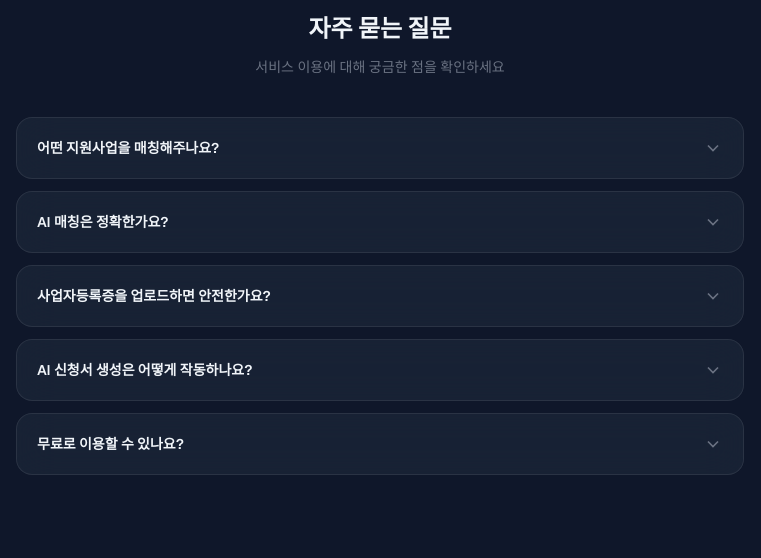
Scenario: FAQ component › interaction › opening an answer › clicking the third question reveals its answer
What coordinates should you click on to do the following:
click the button "사업자등록증을 업로드하면 안전한가요?"
I would click on:
 (154, 296)
Its box is [17,266,743,326].
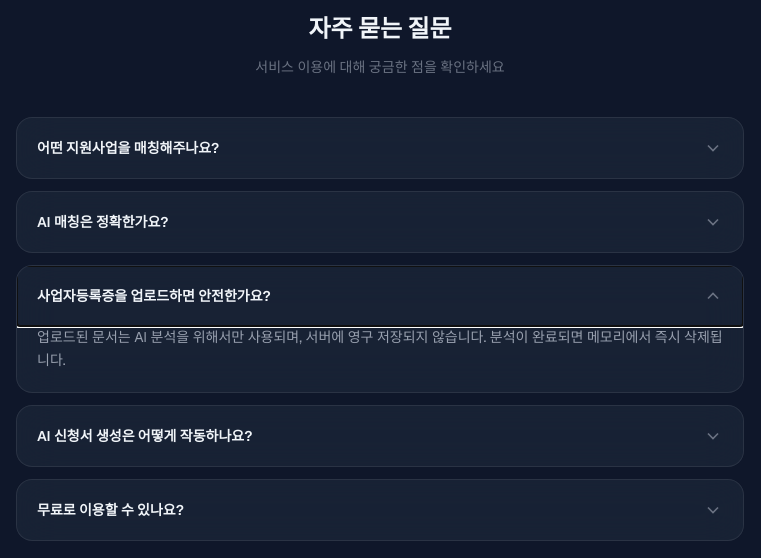
Now the text "서버에 영구 저장되지 않습니다" is shown, box [37,328,723,369]
